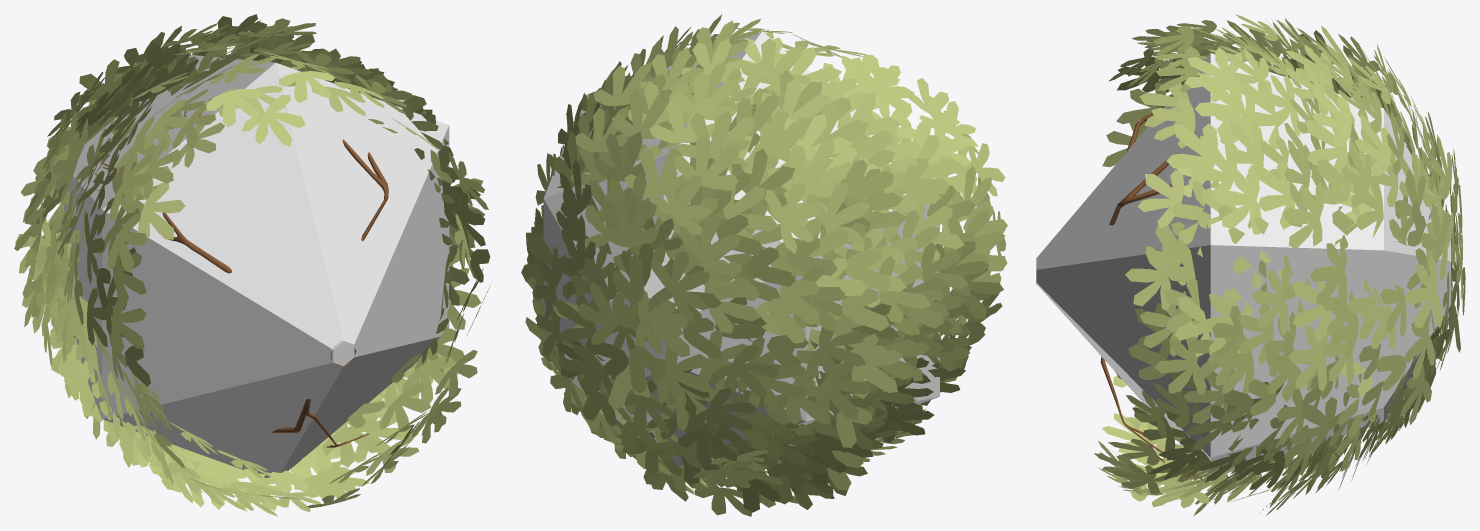
The model's file is small_tree.fbx.
3 renders of one model, left to right at view 1: azimuth 30°, elevation 25°; view 2: azimuth 150°, elevation 25°; view 3: azimuth 270°, elevation 25°, orthographic. The views are drawn at different scales.
Visible parts, largest first — view 1: c_small_tree, small_tree; view 2: small_tree, c_small_tree; view 3: small_tree, c_small_tree.
Part boxes in pixels (left/top/right/bottom): c_small_tree: left=62, top=54, right=449, bottom=477; small_tree: left=14, top=14, right=490, bottom=516; small_tree: left=521, top=14, right=1007, bottom=516; c_small_tree: left=543, top=31, right=939, bottom=467; small_tree: left=1036, top=14, right=1465, bottom=515; c_small_tree: left=1036, top=53, right=1450, bottom=474.
Size of the model in its own units: 147 by 144 by 124.
